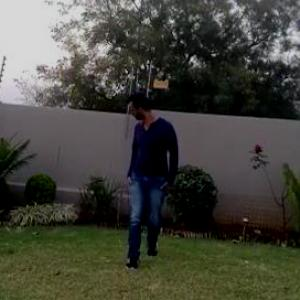follow: (112, 80, 178, 288)
